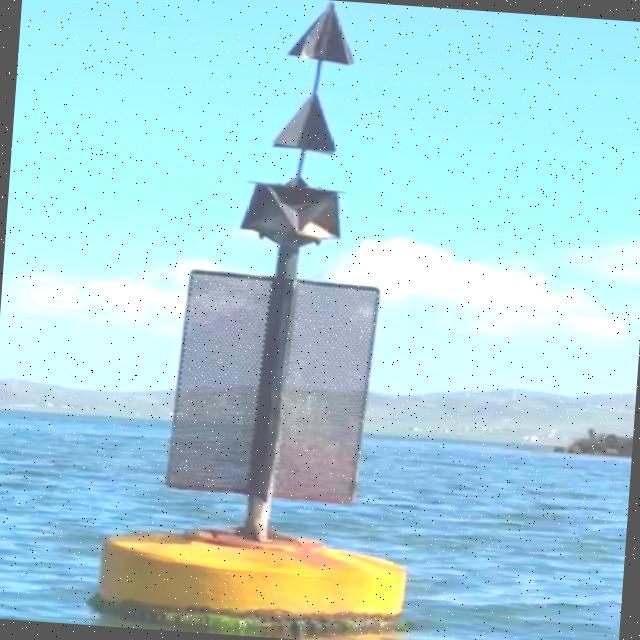marque: (101, 1, 452, 640)
